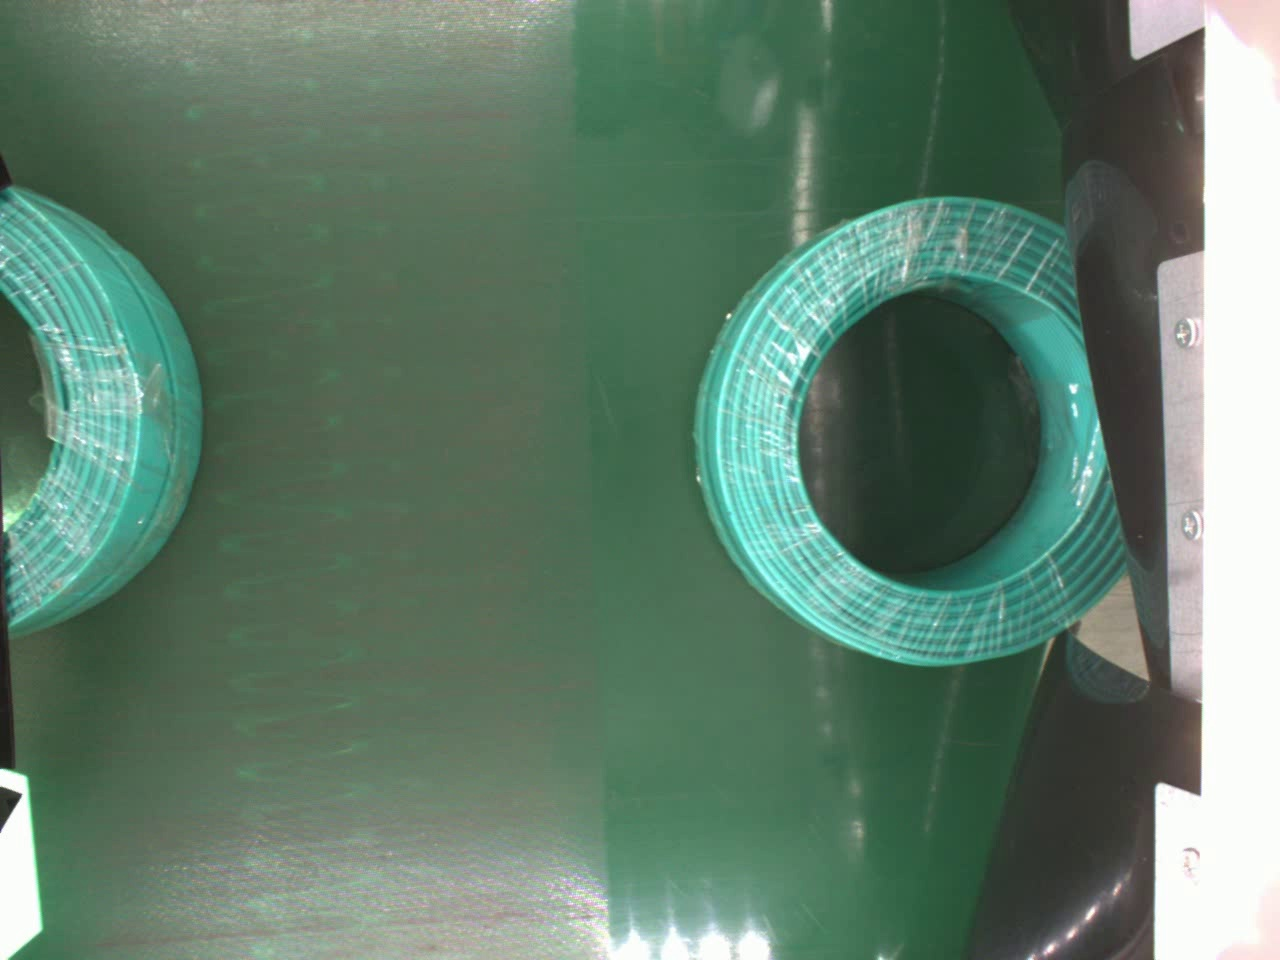green: (688, 189, 1127, 666), (0, 172, 206, 638)
